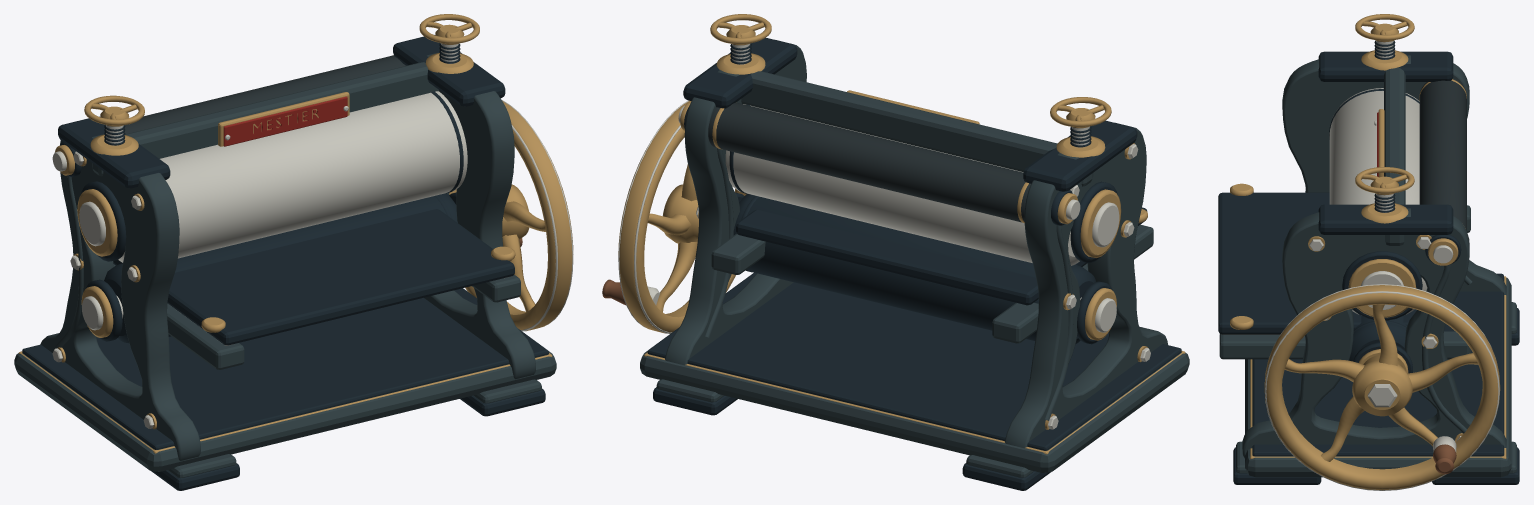
Rendered from presse.glb.
3 views of the same model, side by side, from view 1: azimuth 30°, elevation 25°; view 2: azimuth 150°, elevation 25°; view 3: azimuth 270°, elevation 25° (orthographic). The views are drawn at different scales.
Parts seen in each view (by area): view 1: Bati - Fonderie mate, Bati - Fonte émaillée, encre, Bati - Acier poli, Bati - Bronze tourné, Volant - Bronze tourné, Bati - Encrage au carbone, Bati - Plaque en laque Cachet, Volant - Acier poli; view 2: Bati - Fonderie mate, Bati - Fonte émaillée, encre, Bati - Encrage au carbone, Bati - Acier poli, Volant - Bronze tourné, Bati - Bronze tourné, Volant - Acier poli; view 3: Bati - Fonte émaillée, encre, Bati - Fonderie mate, Volant - Bronze tourné, Bati - Acier poli, Bati - Bronze tourné, Bati - Encrage au carbone, Volant - Acier poli, Volant - Poignée en noyer.
Part boxes in pixels (x1,y1,x2,y2): Bati - Fonderie mate: (22, 35, 548, 490); Bati - Fonte émaillée, encre: (14, 52, 556, 477); Bati - Acier poli: (52, 43, 508, 428); Bati - Bronze tourné: (18, 14, 552, 453); Volant - Bronze tourné: (449, 101, 573, 331); Bati - Encrage au carbone: (124, 55, 405, 133); Bati - Plaque en laque Cachet: (223, 96, 347, 146); Volant - Acier poli: (465, 100, 573, 331); Bati - Fonderie mate: (647, 38, 1181, 490); Bati - Fonte émaillée, encre: (640, 40, 1189, 477); Bati - Encrage au carbone: (708, 102, 1030, 222); Bati - Acier poli: (678, 44, 1150, 429); Volant - Bronze tourné: (618, 100, 746, 333); Bati - Bronze tourné: (644, 14, 1185, 454); Volant - Acier poli: (618, 100, 735, 333); Bati - Fonte émaillée, encre: (1219, 55, 1516, 477); Bati - Fonderie mate: (1218, 40, 1519, 484); Volant - Bronze tourné: (1264, 285, 1500, 490); Bati - Acier poli: (1222, 41, 1461, 441); Bati - Bronze tourné: (1230, 14, 1506, 458); Bati - Encrage au carbone: (1419, 78, 1466, 230); Volant - Acier poli: (1265, 284, 1499, 490); Volant - Poignée en noyer: (1433, 444, 1456, 474).
Size of the model in its own units: 2 by 1.3 by 1.18.
